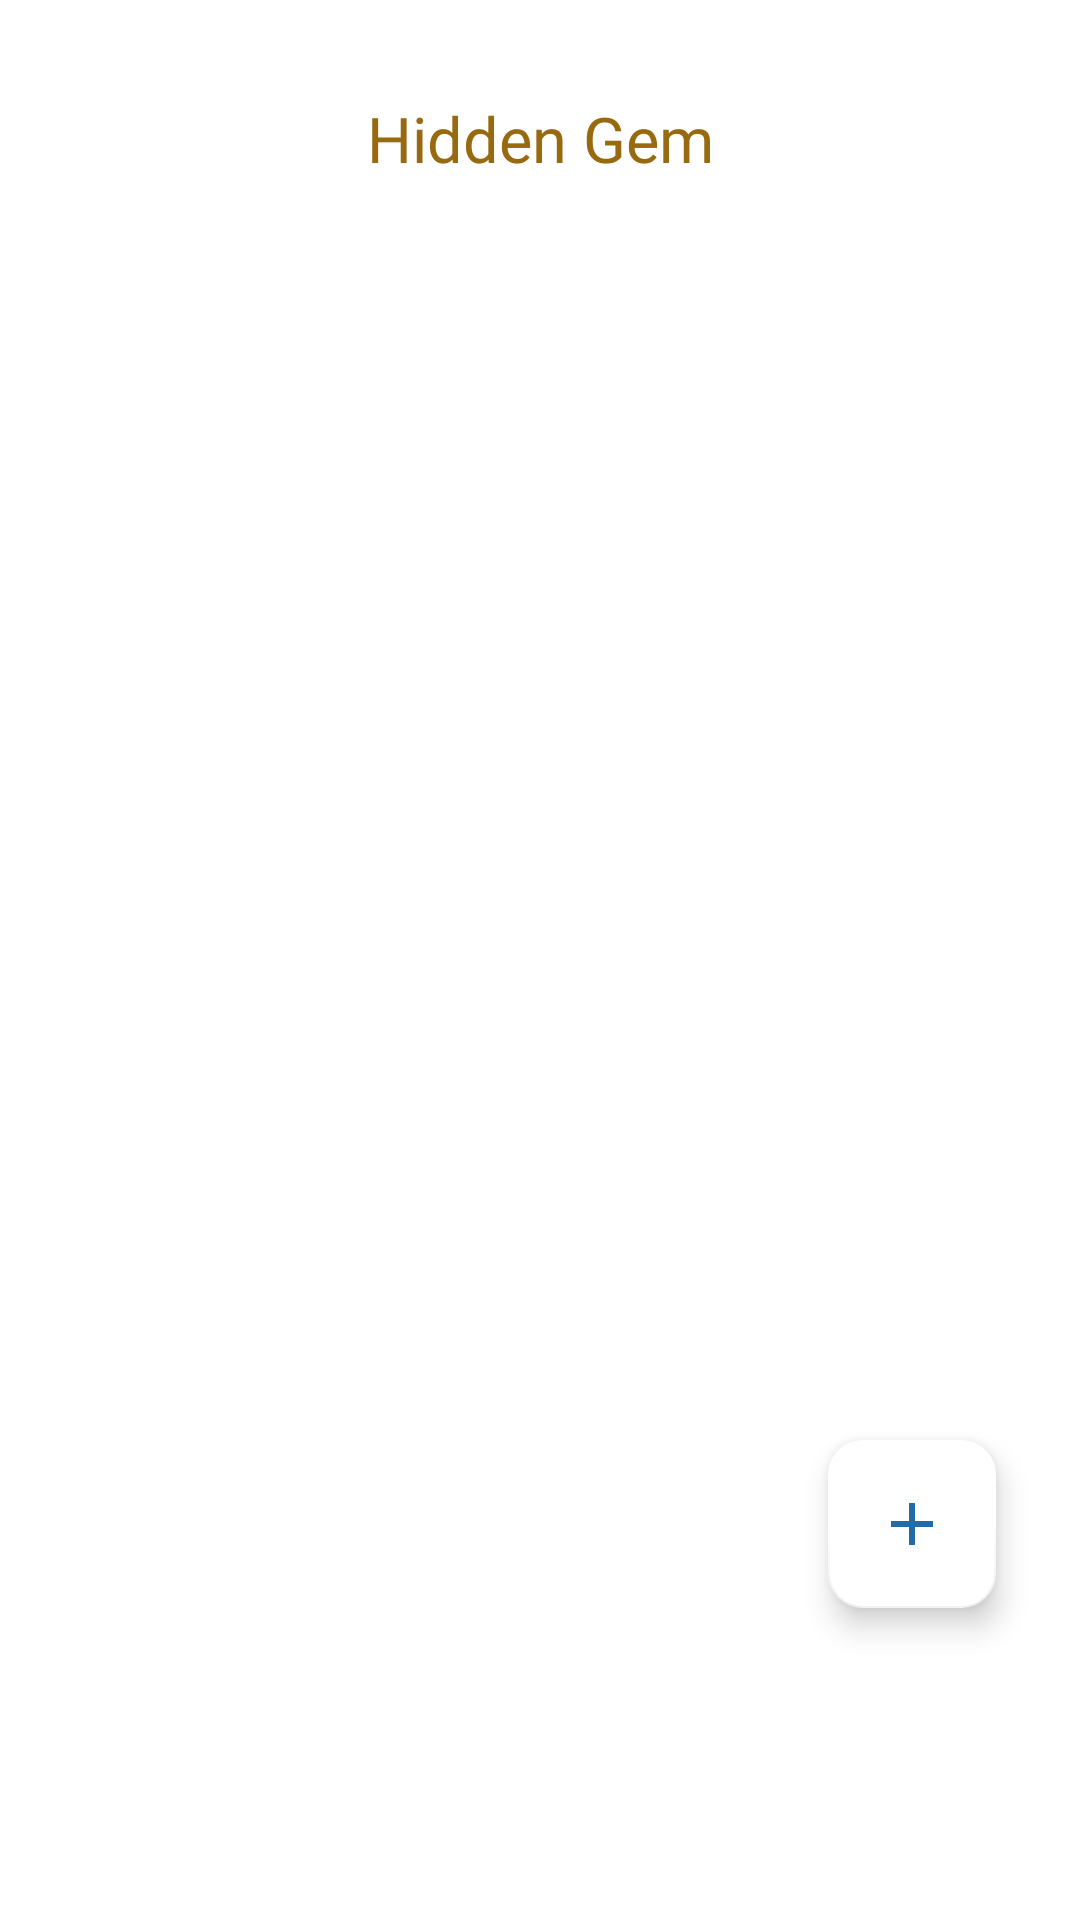

Icon bounding boxes for this 1080x1920 phone screenshot, format (x1, y1, x2, y2):
add: (891, 1503, 933, 1545)
